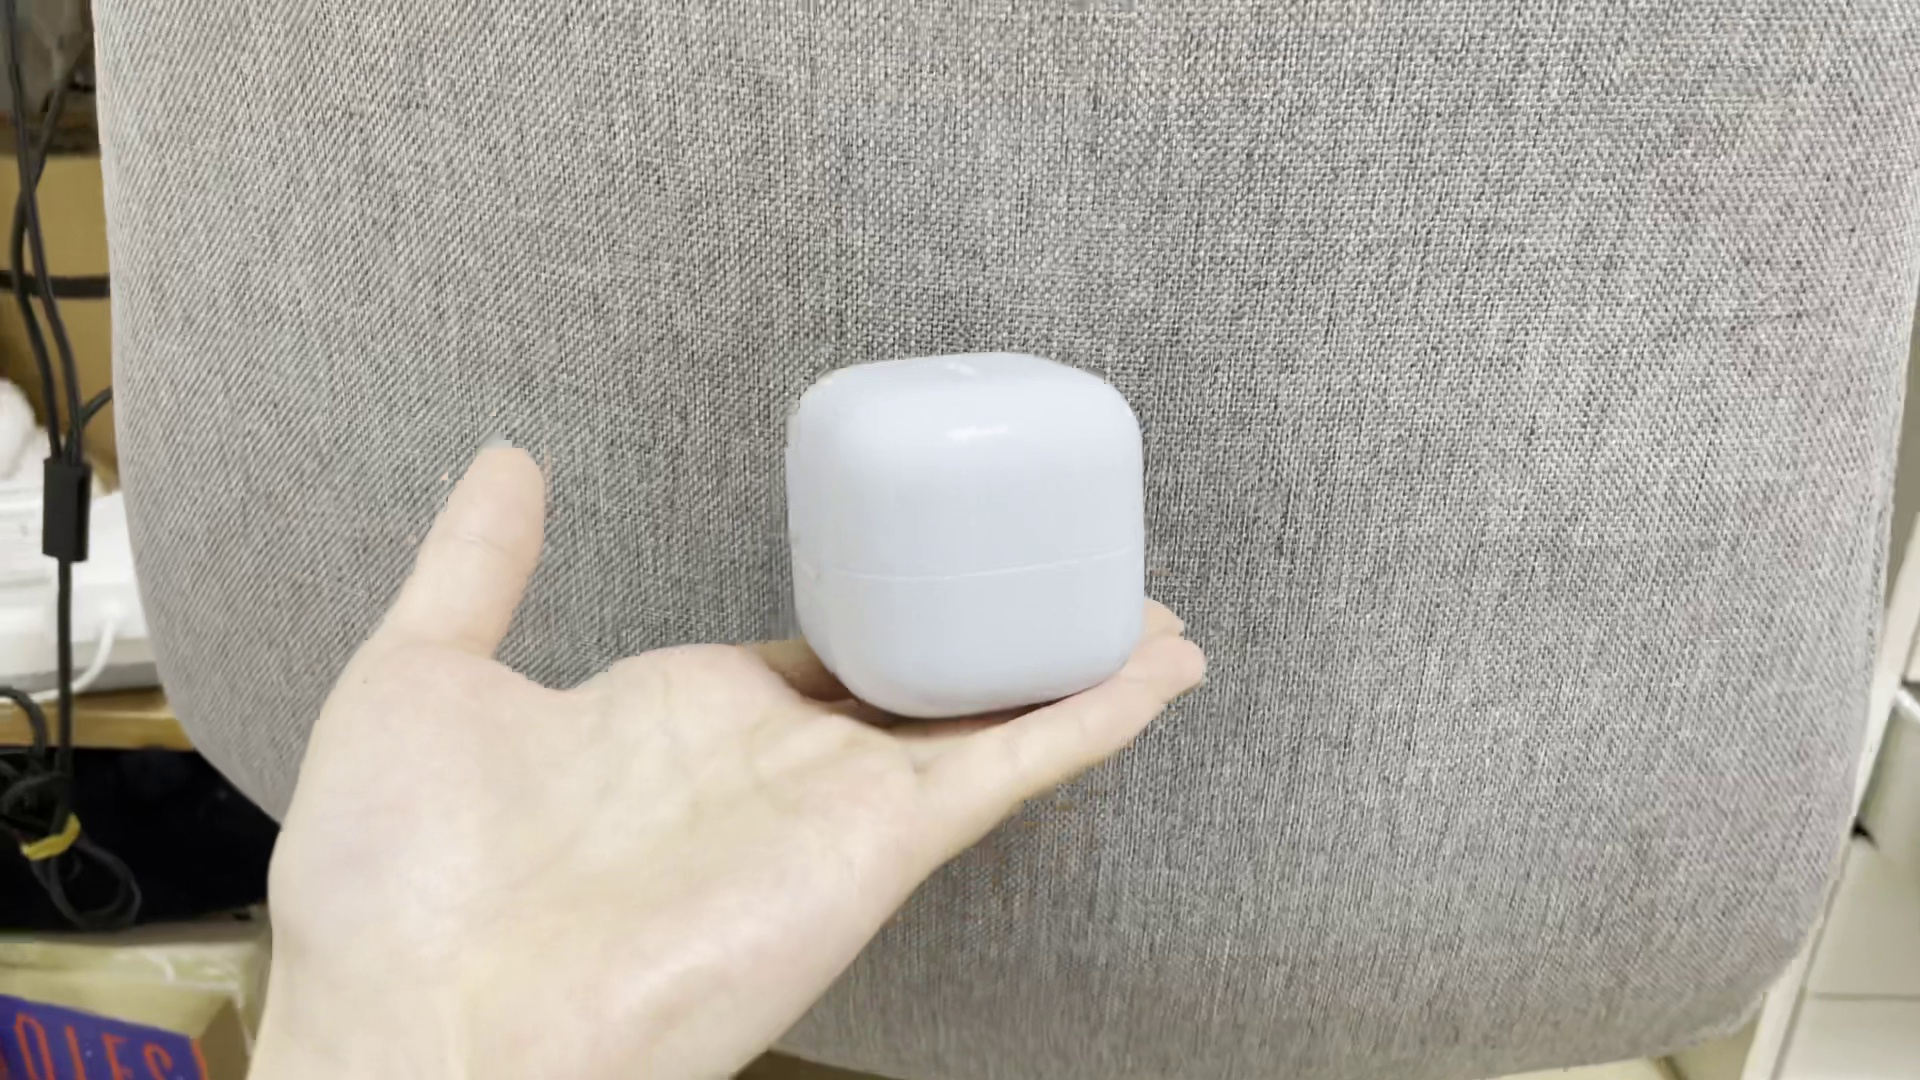cream: (793, 349, 1146, 716)
